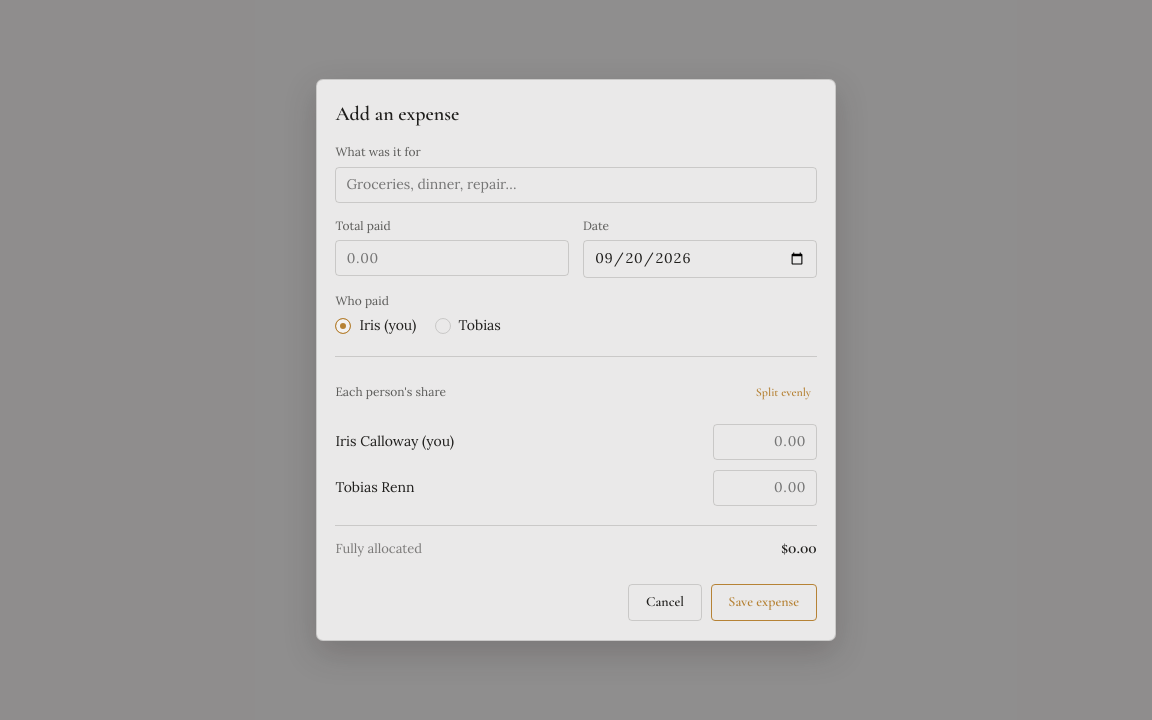
AddExpenseDialog › requires a positive total before saving
Type "Snacks" into the field labelled "What was it for".
click(576, 185); type("Snacks")  # box [335,167,817,203]
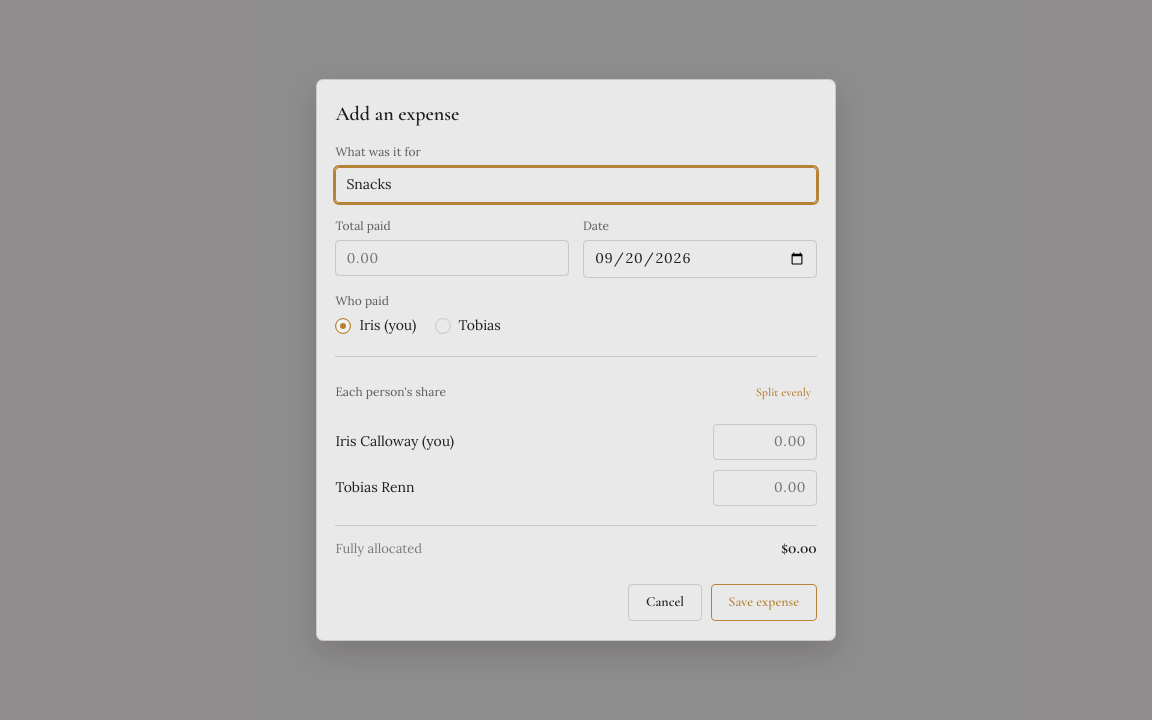
Click the button "Save expense".
click(764, 603)  # box [711,584,817,621]
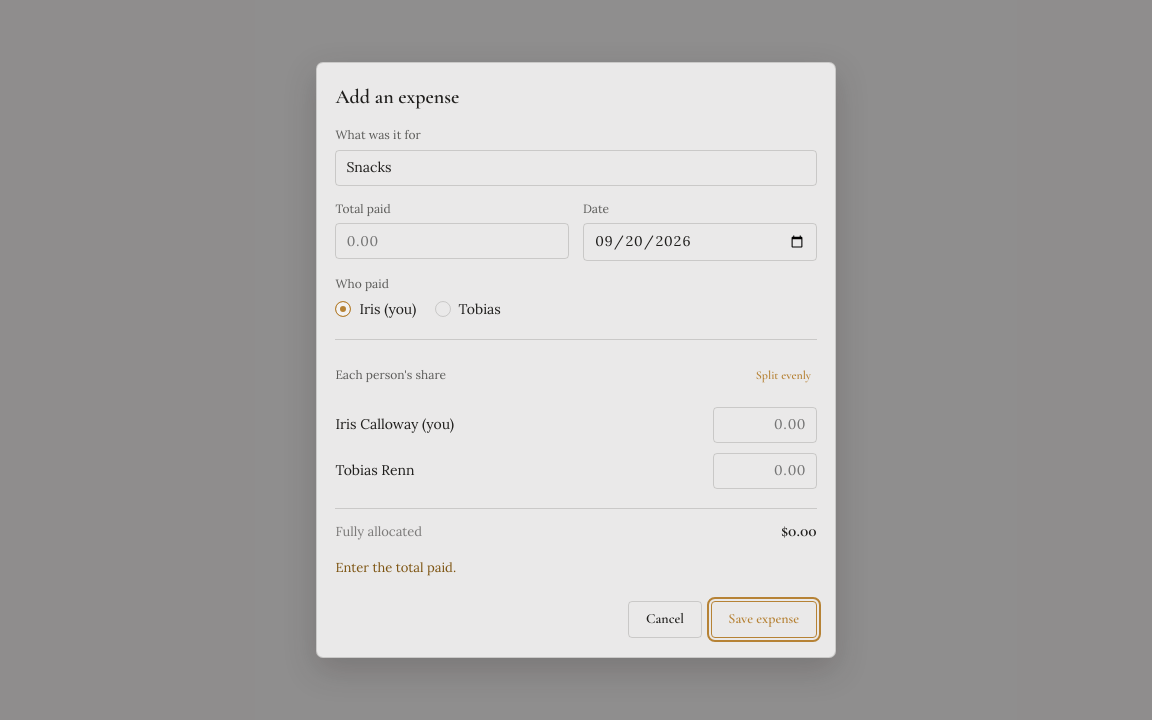
Result: the text "Enter the total paid." is shown at [335,559,456,576]
